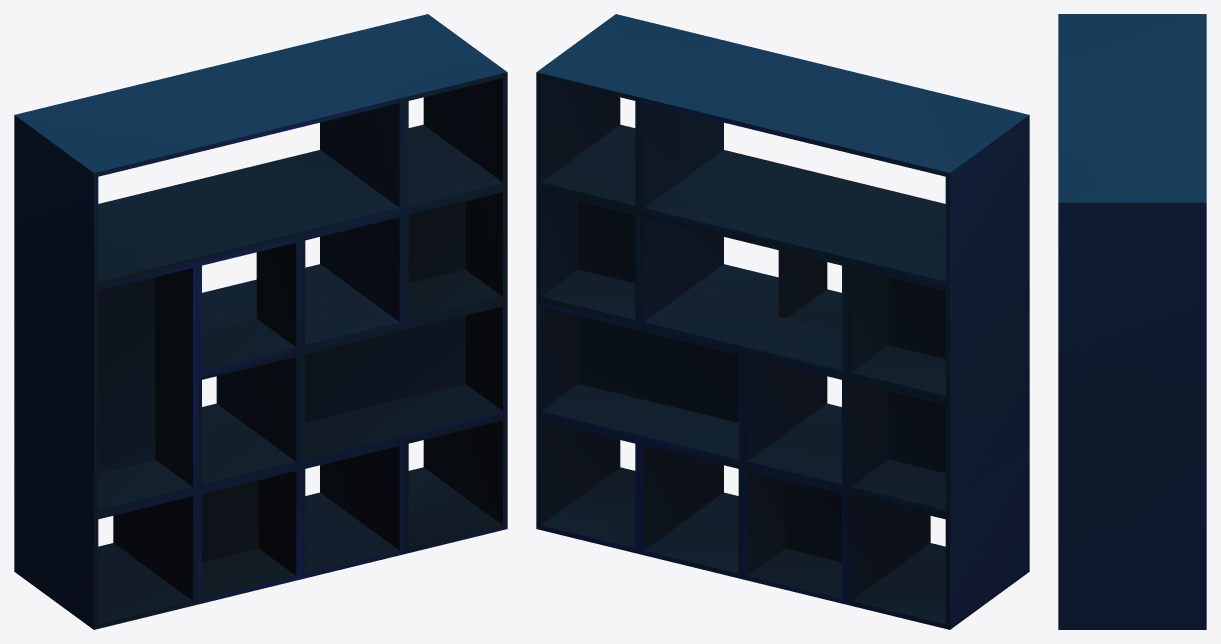
The model's file is cubbies.FBX.
3 renders of one model, left to right at view 1: azimuth 30°, elevation 25°; view 2: azimuth 150°, elevation 25°; view 3: azimuth 270°, elevation 25°, orthographic. The views are drawn at different scales.
Visible parts, largest first — view 1: cubbies; view 2: cubbies; view 3: cubbies.
Boxes of the visible parts, x1,y1,x2,y2 form: cubbies: (14, 14, 507, 629); cubbies: (536, 14, 1029, 629); cubbies: (1058, 14, 1206, 629).
Size of the model in its own units: 1.37 by 1.45 by 0.4572.
